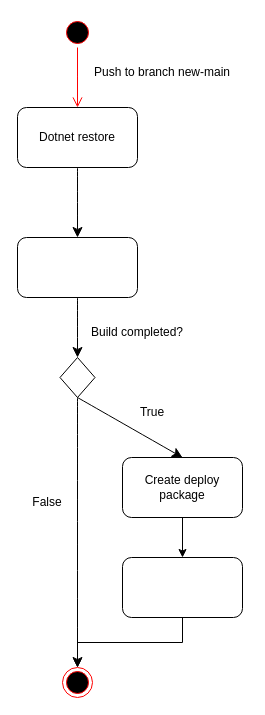
Some shapes in this 265 by 715 pixel diagram are drawn without their labels. The centre of each missing label's shape, as x and y in pixels:
"Deploy to Azure" belongs at (182,587).
"Dotnet Publish" belongs at (77,267).
